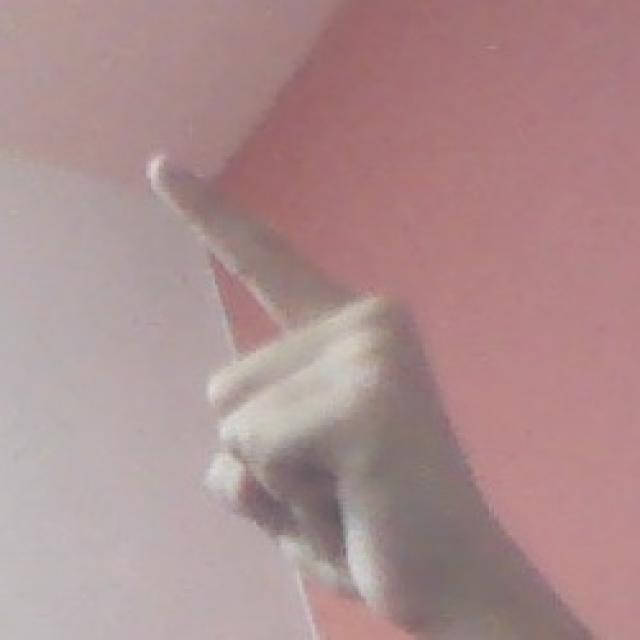Alphabet-I: (131, 117, 478, 620)
